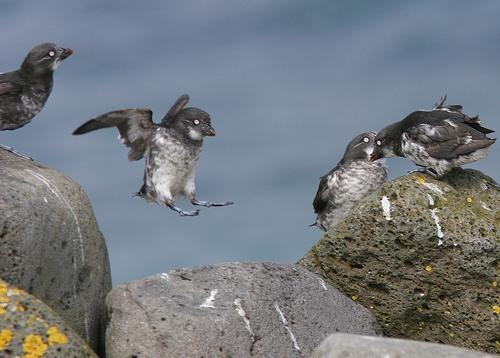bird: (67, 93, 228, 220)
